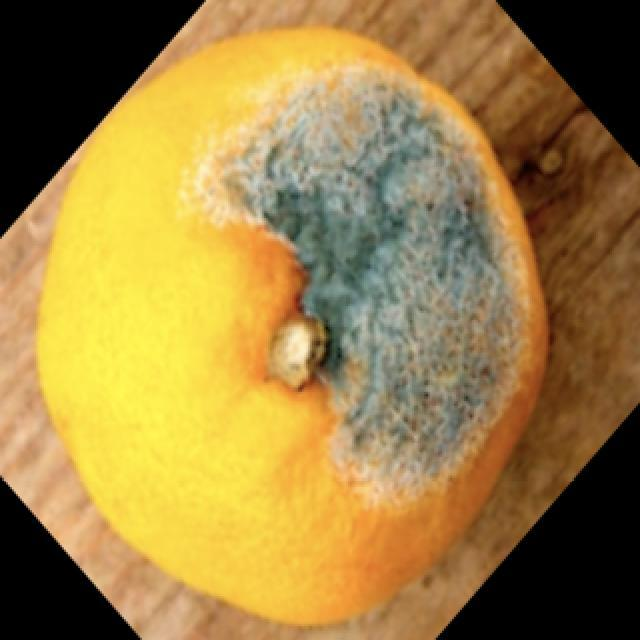sedikit-busuk: (37, 28, 547, 624), (220, 74, 523, 484)
